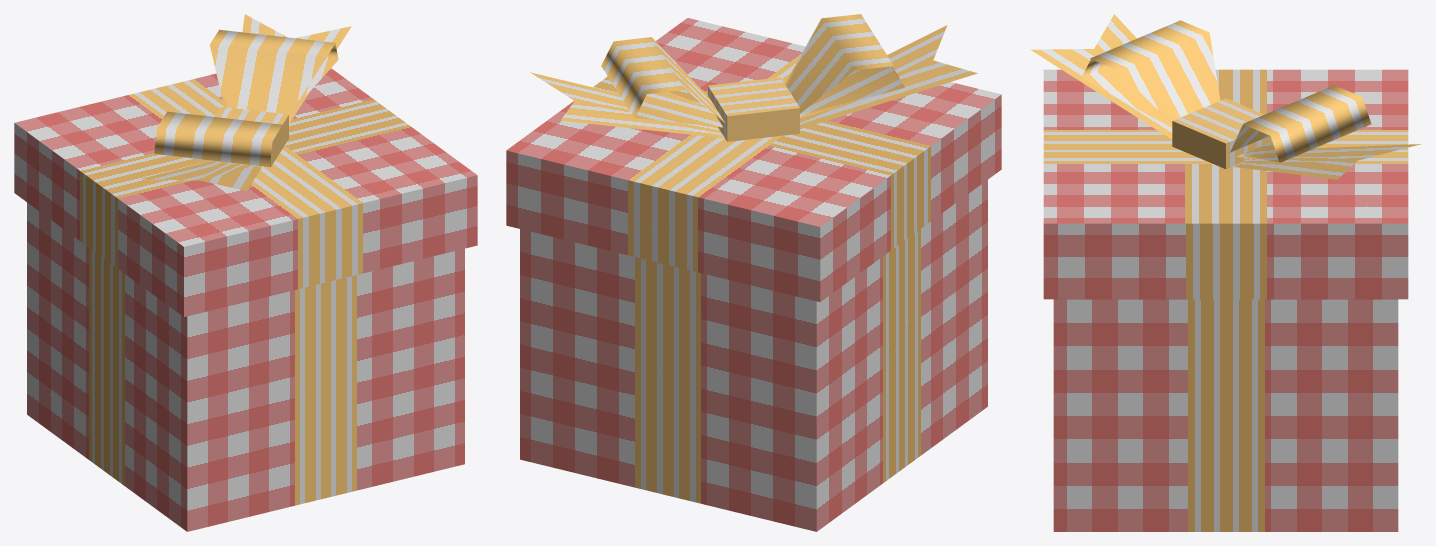
Rendered from 05bf_Royal_Present.glb.
3 views of the same model, side by side, from view 1: azimuth 30°, elevation 25°; view 2: azimuth 150°, elevation 25°; view 3: azimuth 270°, elevation 25° (orthographic). The views are drawn at different scales.
Parts seen in each view (by area): view 1: part_0; view 2: part_0; view 3: part_0.
Boxes of the visible parts, x1=… form: part_0: x1=14, y1=14, x2=477, y2=531; part_0: x1=506, y1=14, x2=1001, y2=531; part_0: x1=1030, y1=14, x2=1420, y2=531.
Bounding box in the file's own units: 0.5686 × 0.6103 × 0.5686.
Materials: 1 (1 with a texture image).
